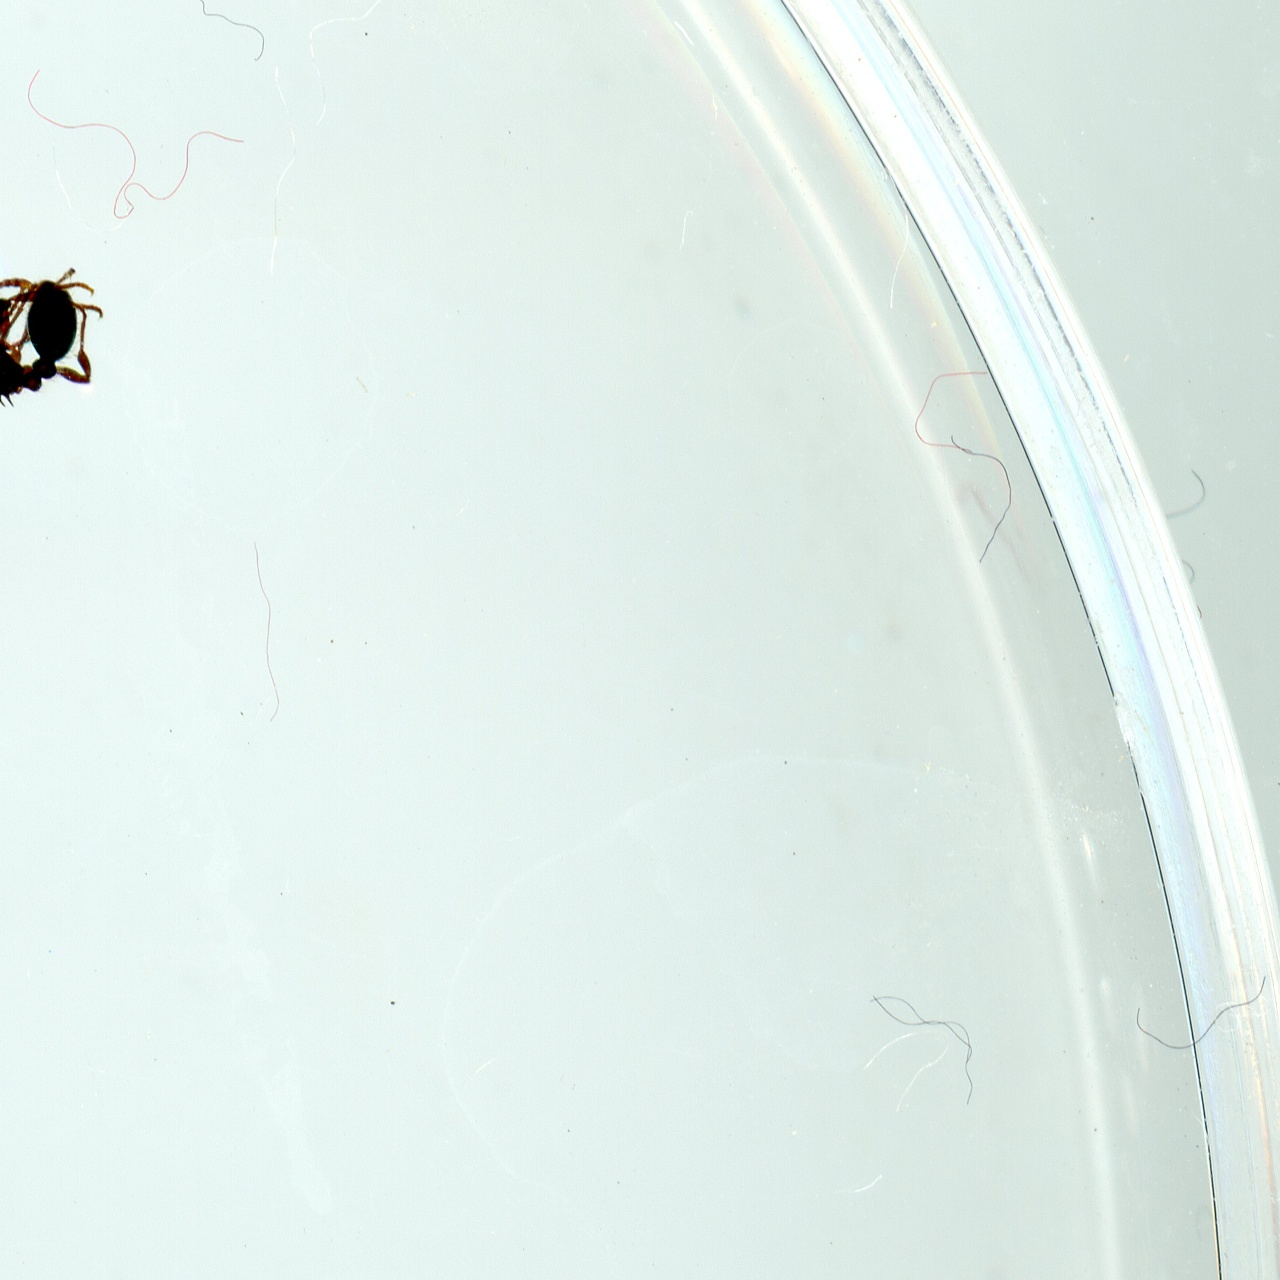arthropod: (0, 260, 122, 420)
